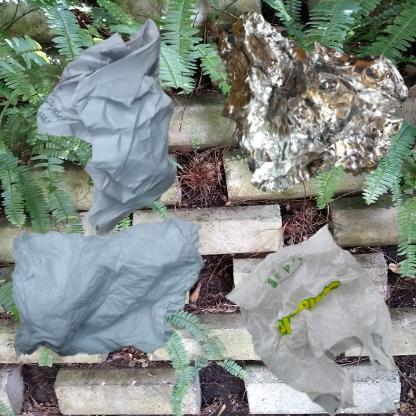aluminio: (213, 10, 409, 195)
bolsa: (213, 213, 416, 416)
papel: (10, 10, 260, 284), (10, 213, 206, 361)
